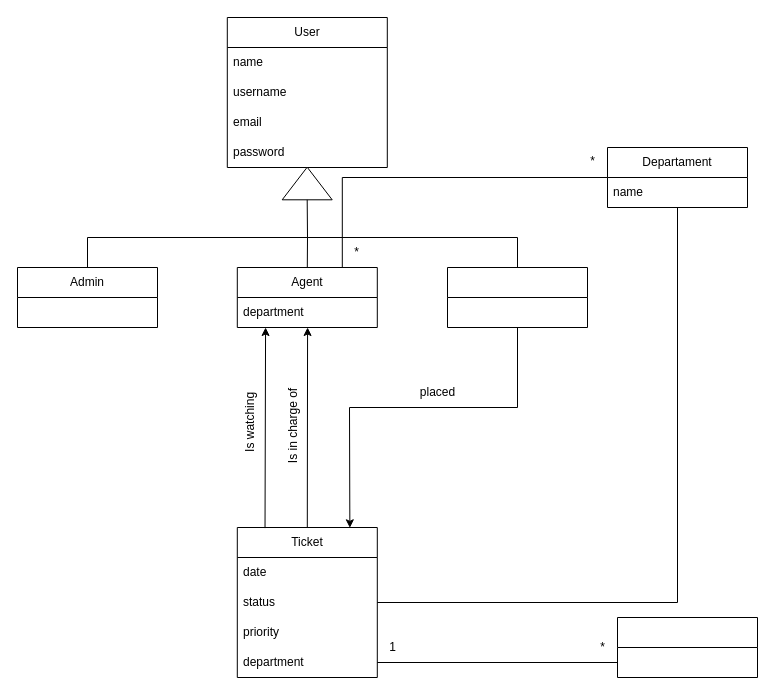
This 775x695 diagram has some shape labels left out. The shapes that lost their labels are listed below. From the top down, each one's centre as x and y in pixels, then its label:
At point 517,297: "Client".
At point 687,647: "Tag".
